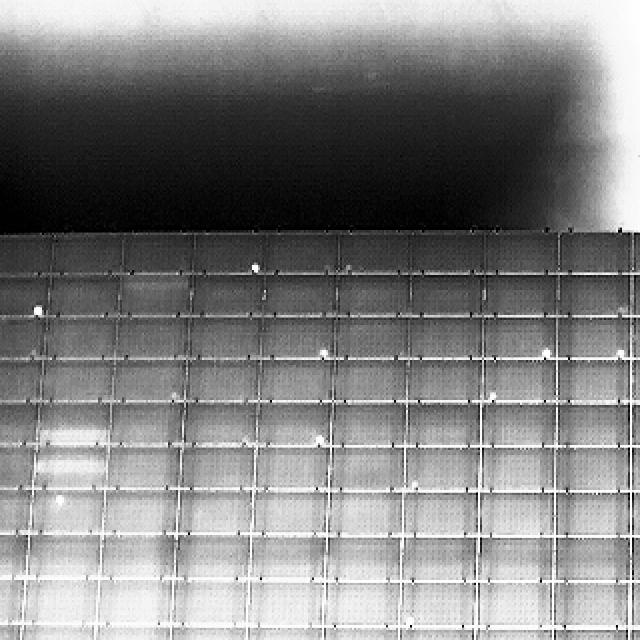Hotspots: (25, 296, 45, 316), (612, 344, 634, 361), (314, 430, 333, 446), (318, 342, 334, 360), (50, 493, 68, 508), (246, 262, 264, 276), (536, 346, 554, 360), (404, 611, 413, 628), (634, 257, 640, 275)
PV-modules: (550, 582, 628, 631), (22, 576, 98, 626), (264, 227, 344, 274), (248, 580, 323, 630), (552, 448, 630, 496), (323, 582, 402, 629), (552, 491, 631, 538), (169, 578, 246, 626), (550, 538, 628, 585), (326, 402, 404, 449), (248, 536, 324, 584), (404, 401, 480, 449), (399, 538, 476, 585), (96, 577, 171, 625), (479, 448, 554, 496), (100, 535, 176, 582), (24, 535, 100, 582), (330, 448, 406, 495), (483, 402, 559, 449), (339, 227, 415, 274), (477, 491, 553, 538), (400, 579, 474, 627), (476, 582, 550, 630), (252, 448, 326, 496), (172, 536, 249, 582), (406, 448, 481, 495), (324, 538, 400, 584), (256, 357, 332, 403), (107, 402, 181, 449), (476, 538, 550, 585), (414, 227, 486, 275), (401, 492, 476, 538), (181, 402, 256, 448), (552, 358, 627, 404), (107, 448, 180, 495), (181, 358, 257, 403), (404, 358, 480, 403), (330, 357, 404, 403), (38, 357, 112, 403), (256, 402, 330, 448), (558, 231, 637, 274), (556, 404, 633, 448), (42, 274, 119, 318), (556, 274, 633, 318), (490, 228, 562, 275), (178, 488, 253, 533), (28, 489, 103, 534), (408, 274, 483, 319), (180, 448, 253, 494), (33, 448, 106, 494), (104, 490, 178, 535), (552, 318, 629, 361), (329, 491, 404, 535), (186, 274, 261, 318), (250, 491, 326, 534), (111, 357, 182, 403), (38, 401, 109, 447), (333, 274, 407, 318), (262, 274, 336, 318), (406, 318, 481, 361), (330, 318, 405, 361), (486, 274, 559, 318), (482, 357, 550, 404), (259, 318, 335, 360), (42, 318, 118, 360), (187, 318, 261, 360), (51, 232, 123, 275), (119, 274, 189, 318), (118, 317, 188, 360), (482, 318, 552, 360), (126, 232, 196, 274), (191, 235, 259, 277), (0, 265, 48, 317), (0, 498, 28, 580), (0, 233, 51, 276), (0, 355, 40, 403), (0, 317, 42, 361), (0, 402, 38, 449), (0, 447, 35, 493), (16, 622, 94, 640), (0, 488, 30, 534), (90, 622, 166, 640), (0, 536, 27, 582), (318, 625, 398, 640), (164, 625, 244, 640), (394, 625, 472, 640), (244, 625, 320, 640), (550, 625, 626, 640), (472, 625, 548, 640), (0, 577, 20, 625), (630, 355, 640, 403), (630, 447, 640, 495), (632, 578, 640, 628), (632, 537, 640, 585), (632, 490, 640, 538), (632, 402, 640, 448), (632, 272, 640, 318), (632, 315, 640, 360), (0, 622, 18, 640), (630, 627, 640, 640), (638, 230, 640, 272)
